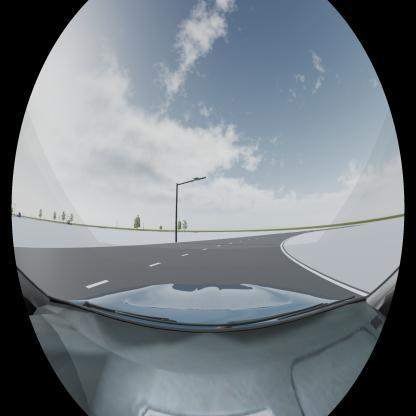Green Light: (192, 177, 200, 182)
